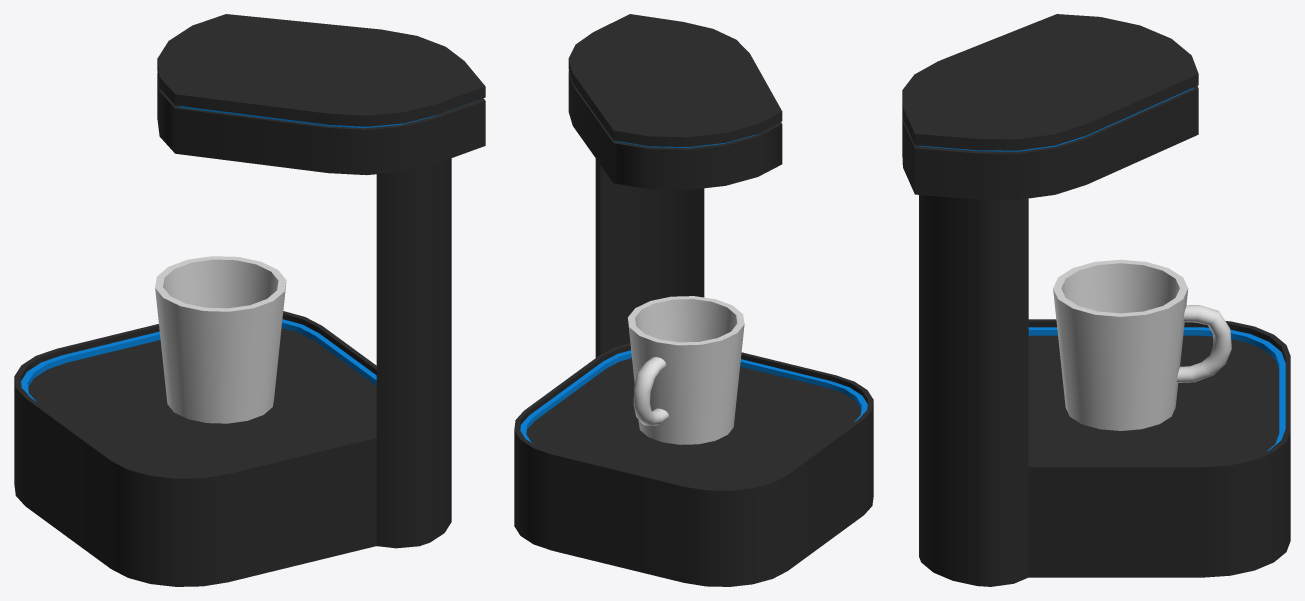
Rendered from SM_CoffeeMaker.fbx.
The picture shows the model from 3 angles, left to right: view 1: azimuth 30°, elevation 25°; view 2: azimuth 150°, elevation 25°; view 3: azimuth 270°, elevation 25°; orthographic projection. The views are drawn at different scales.
Visible parts, largest first — view 1: pTorus3; view 2: pTorus3; view 3: pTorus3.
Boxes of the visible parts, <box> form: pTorus3: <box>14,14,485,586</box>; pTorus3: <box>514,14,873,586</box>; pTorus3: <box>902,14,1290,586</box>.
Bounding box in the file's own units: 55.56 × 71.78 × 55.6.
